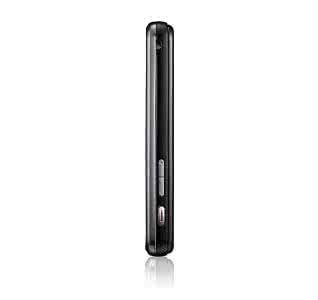phone: (145, 24, 174, 258)
